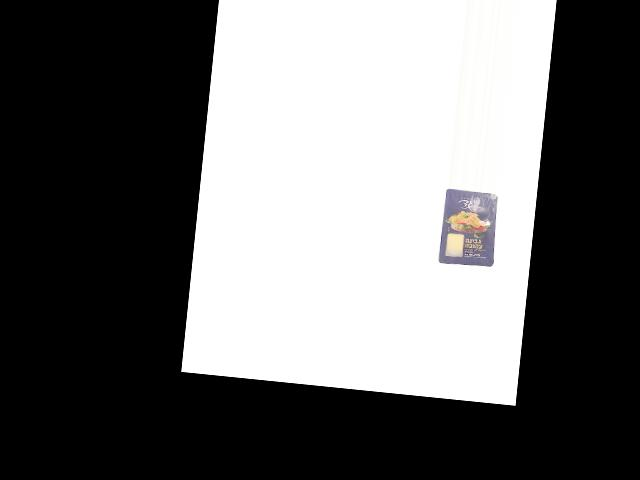cheese: (438, 187, 502, 268)
